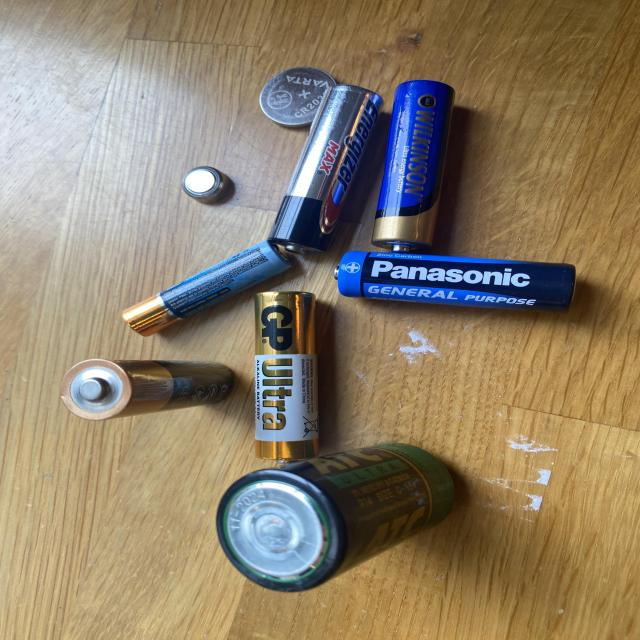AA: (263, 83, 388, 258), (118, 236, 298, 342), (330, 248, 579, 314), (369, 75, 460, 255), (56, 357, 238, 423), (252, 290, 321, 464)
COIN: (257, 66, 338, 130), (181, 165, 231, 205)
